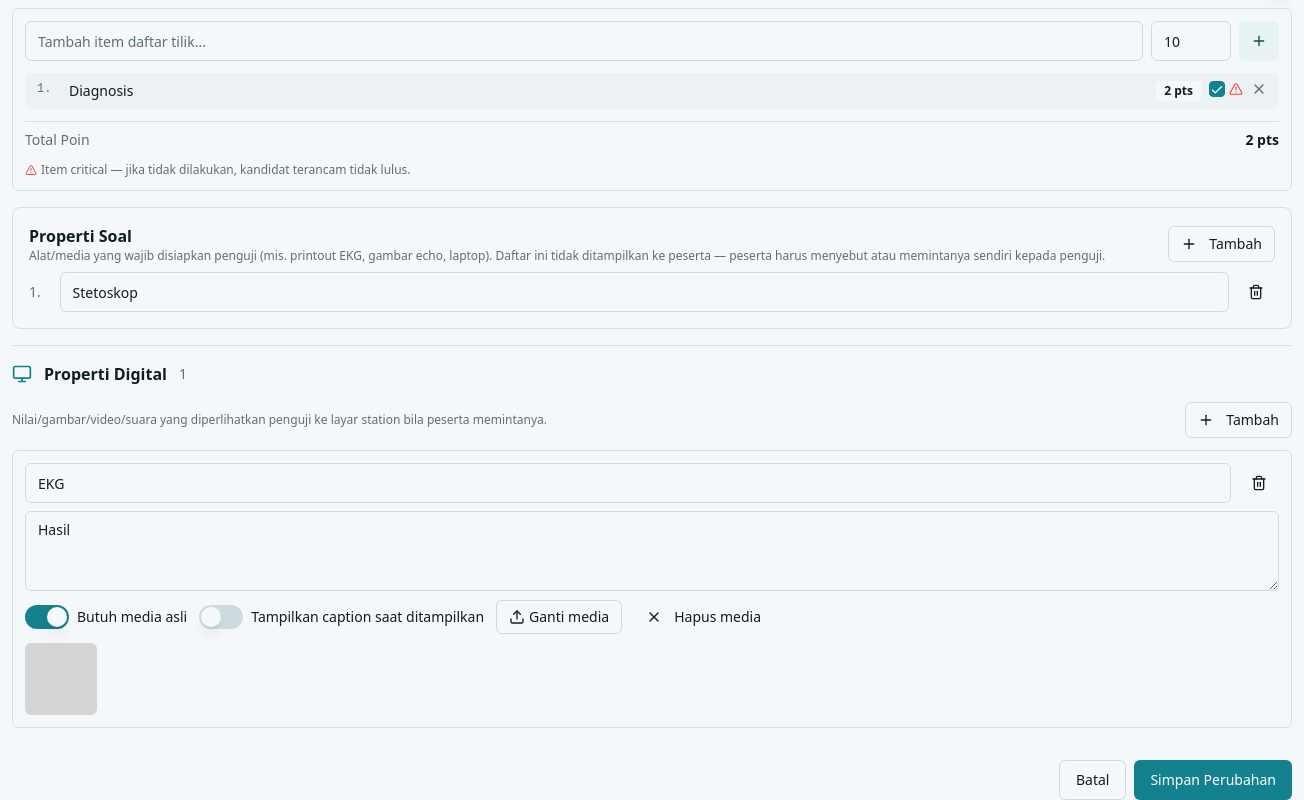
case form private digital properties › uploading image/png persists required media and hides caption, then allows manual caption choice
Earlier steps of the test are not shown.
Later steps or results of the test are not shown.
(page scrolled)
Expected: the switch named "Butuh media asli" is disabled, [25, 605, 69, 629]
Expected: the switch named "Butuh media asli" is checked, [25, 605, 69, 629]
What coordinates should you click on to do the following:
click the button "Simpan Perubahan"
I would click on:
 (1213, 780)
Its box is [1134, 760, 1292, 799].
What coordinates should you click on to do the following:
click the switch named "Tampilkan caption saat ditampilkan"
I would click on:
 (221, 617)
Its box is [199, 605, 243, 629].
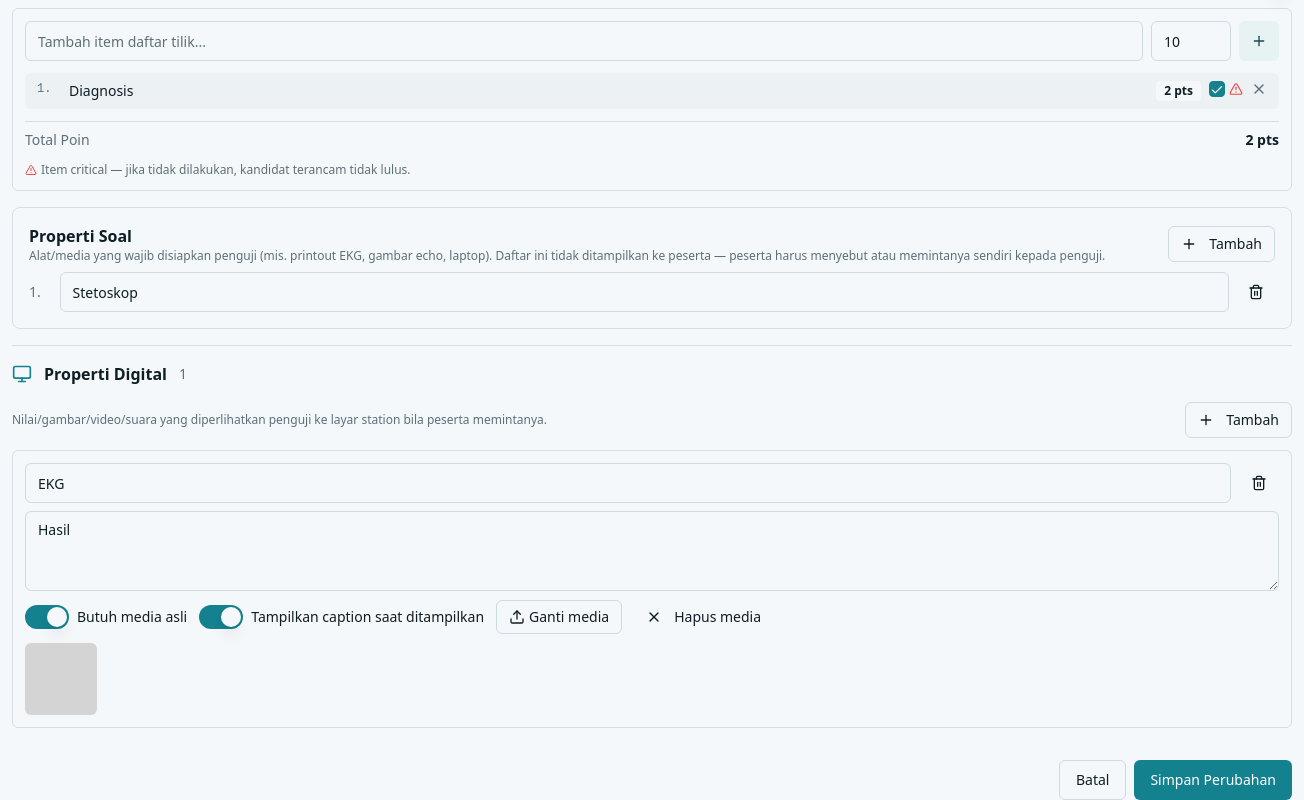
Expected: the switch named "Tampilkan caption saat ditampilkan" is checked, [199, 605, 243, 629]
